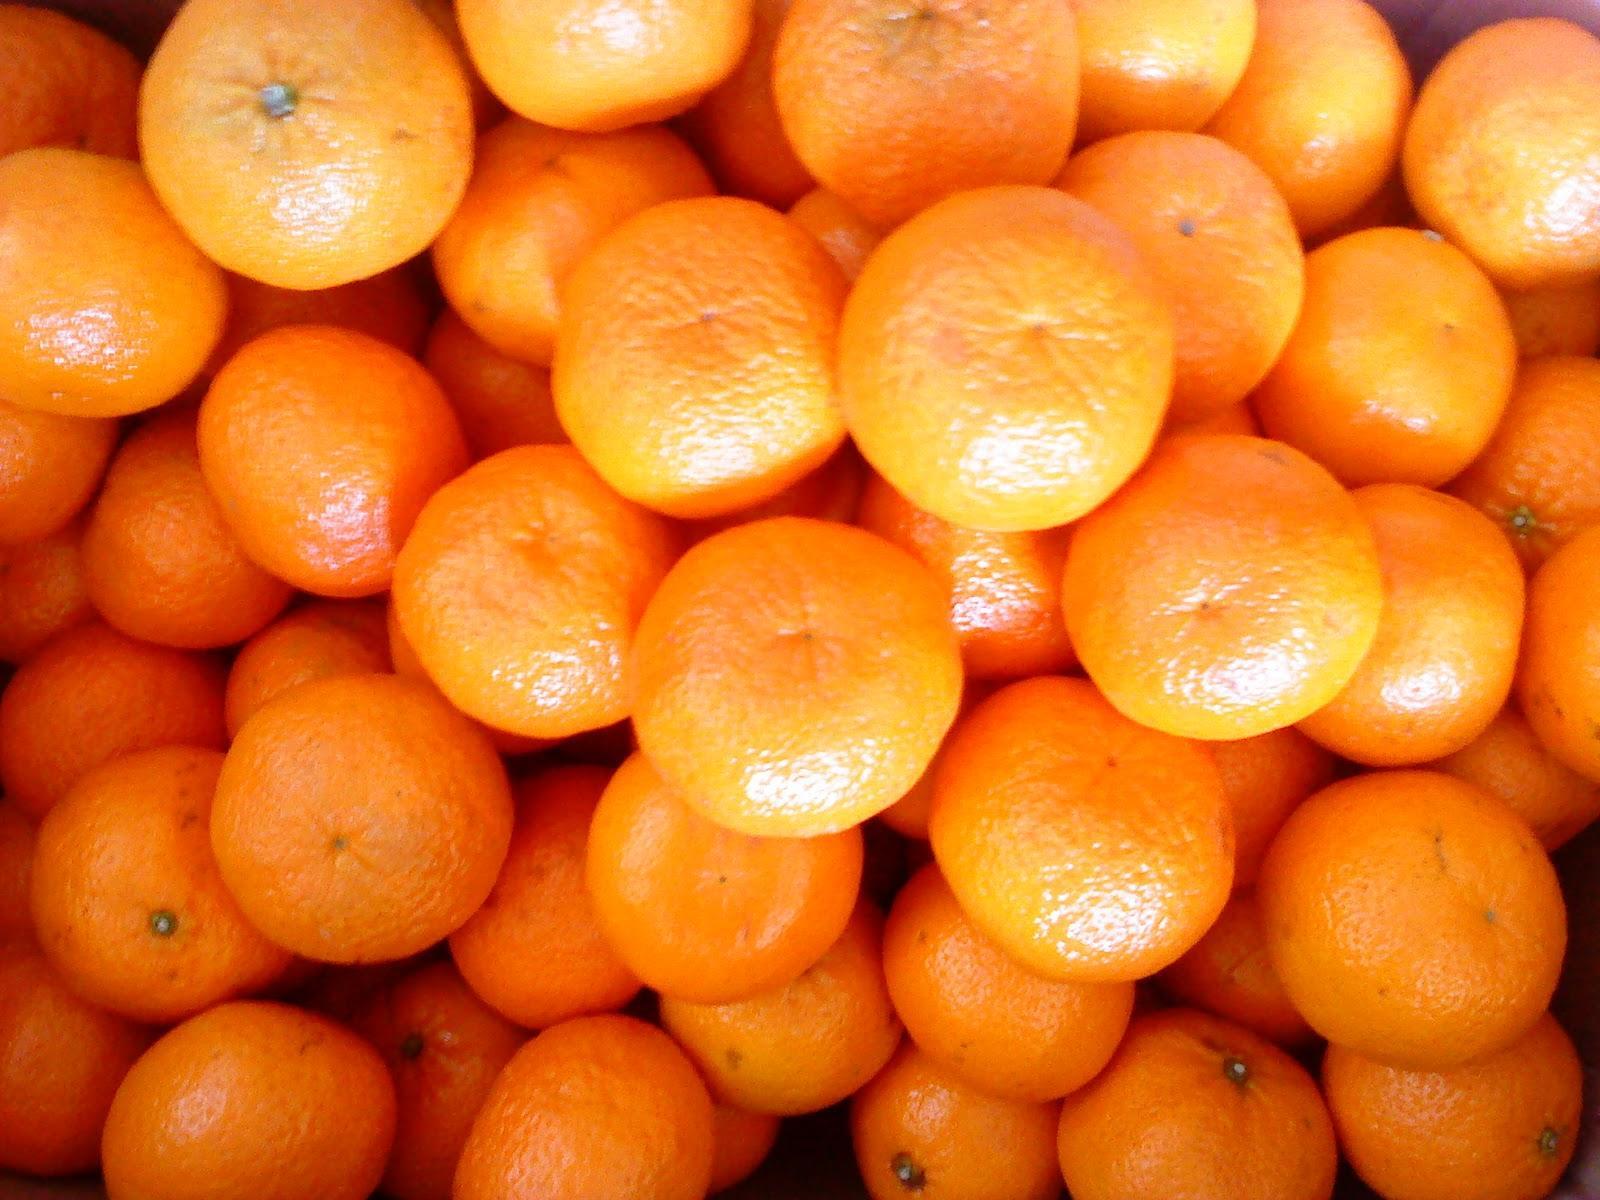orange: (833, 194, 1170, 536), (616, 514, 957, 848), (120, 0, 483, 301), (1063, 427, 1376, 770), (1254, 760, 1579, 1061), (940, 661, 1232, 992), (553, 180, 850, 504), (200, 667, 506, 981), (397, 444, 666, 744), (1266, 224, 1533, 483), (93, 981, 406, 1200), (1073, 997, 1346, 1200)
